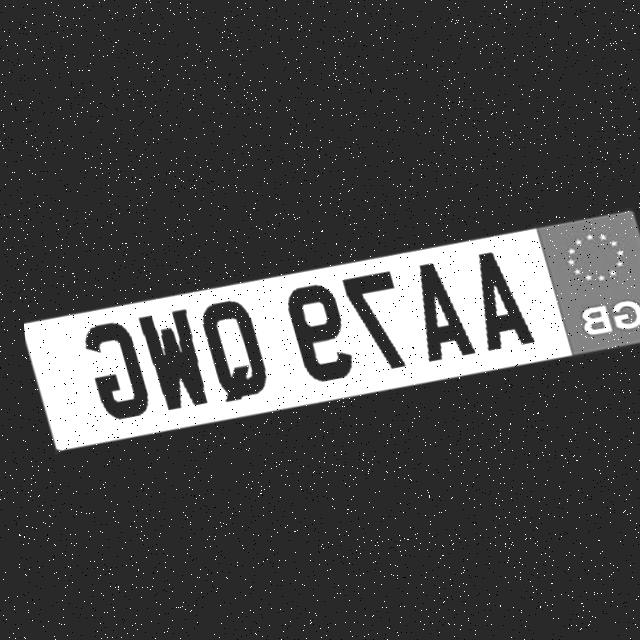license-plates: (24, 209, 640, 448)
